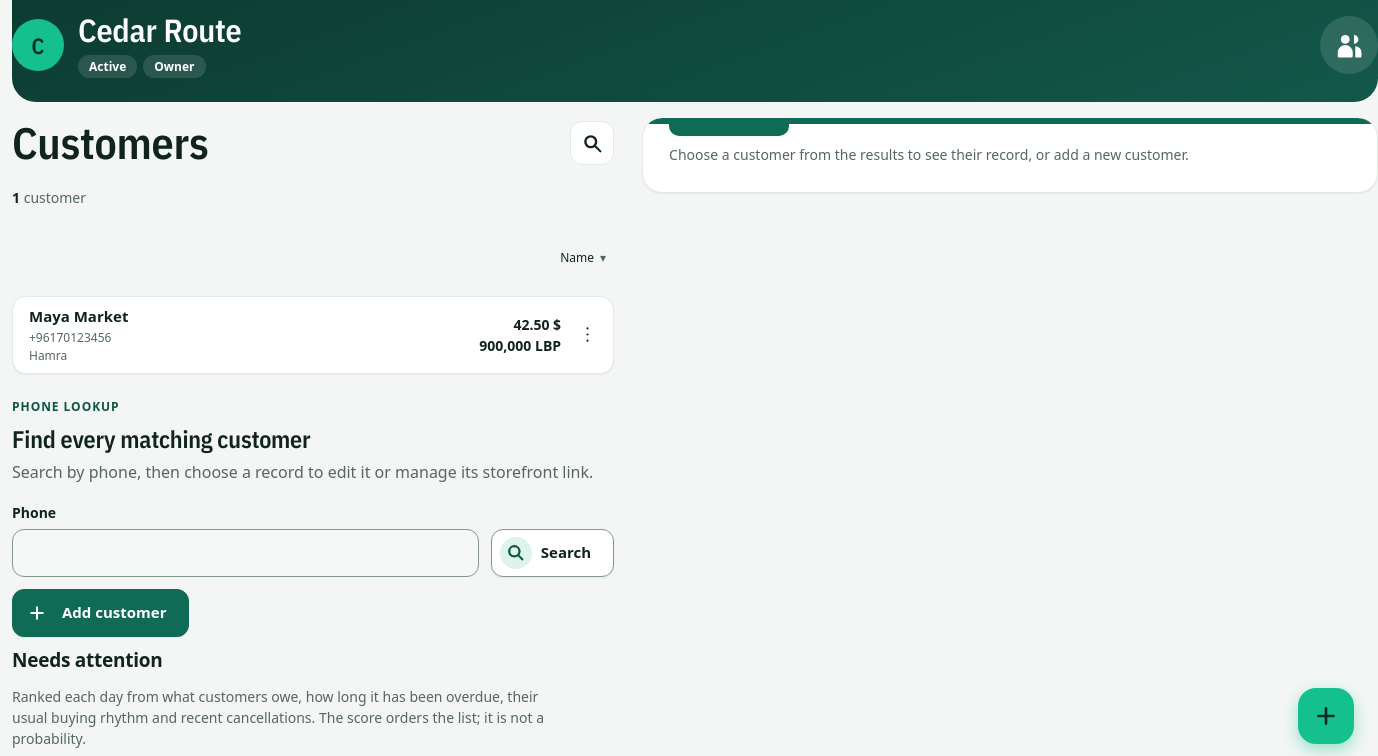
Test case: Fab opens required fields first; optional server validation reveals the disclosure without clearing values
Expected: the list named "All customers" is shown, x1=12 y1=296 x2=614 y2=374
Click the button named "New customer" at (1326, 716), box x1=1298 y1=688 x2=1354 y2=744
(page scrolled)
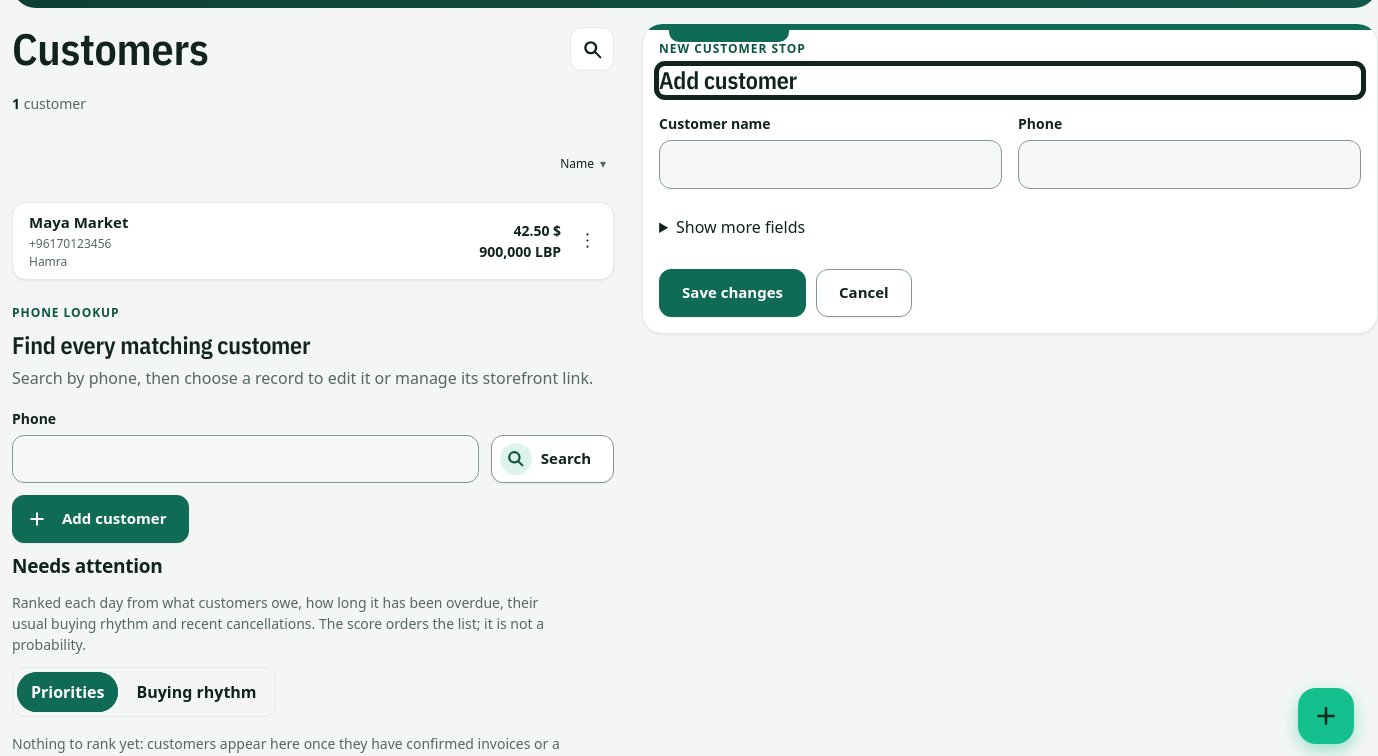
Type "New shop" into the field labelled "Customer name" at (831, 164), box x1=659 y1=140 x2=1002 y2=189
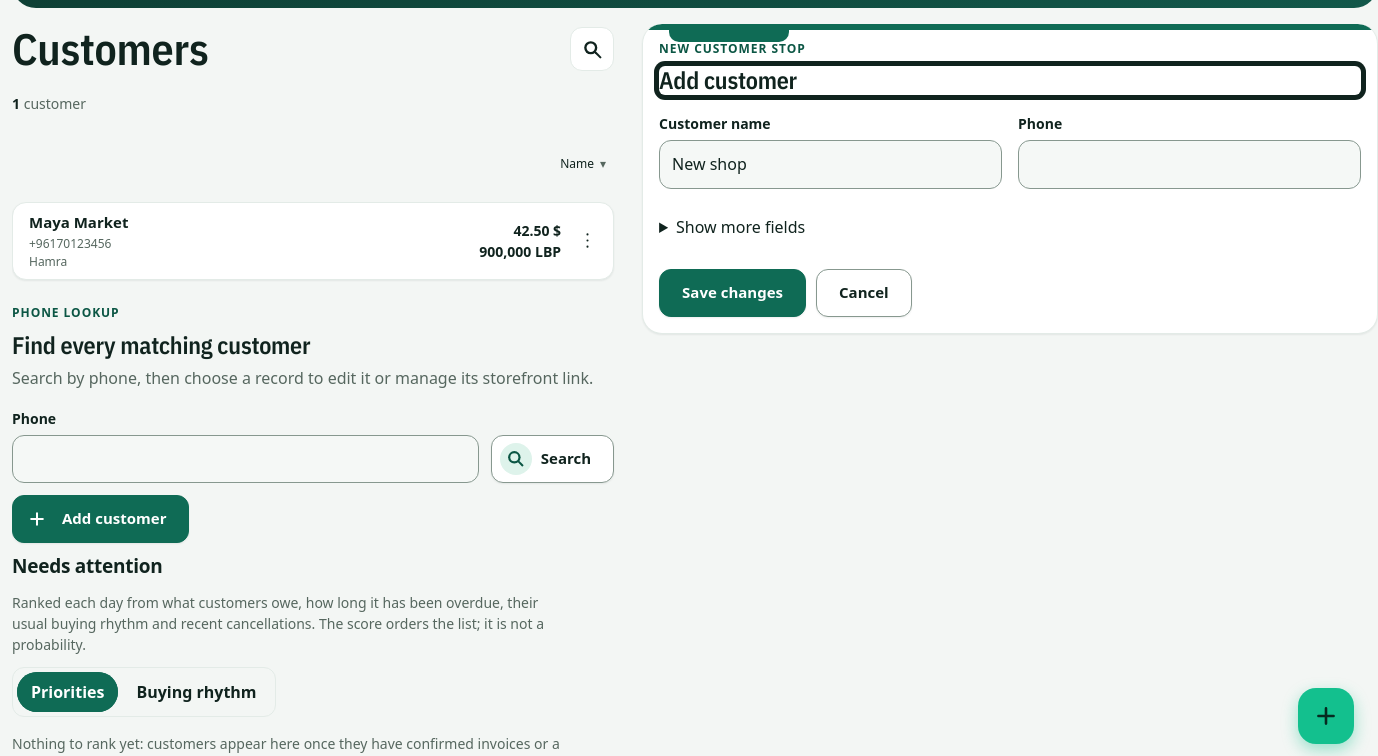
Type "+96171999888" into the field labelled "Phone" below "New customer stop" at (1190, 164), box x1=1018 y1=140 x2=1361 y2=189
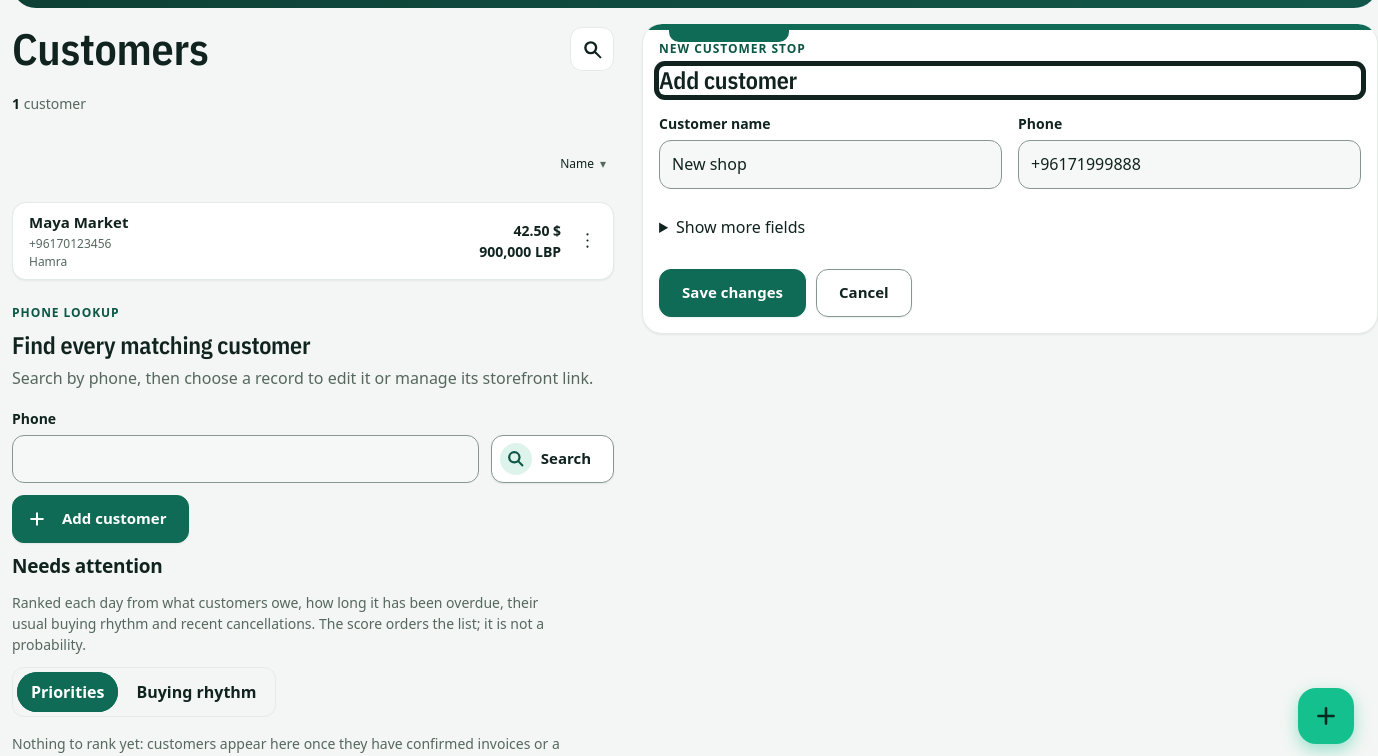
Click the button "Save changes" at (733, 293), box x1=659 y1=269 x2=806 y2=317
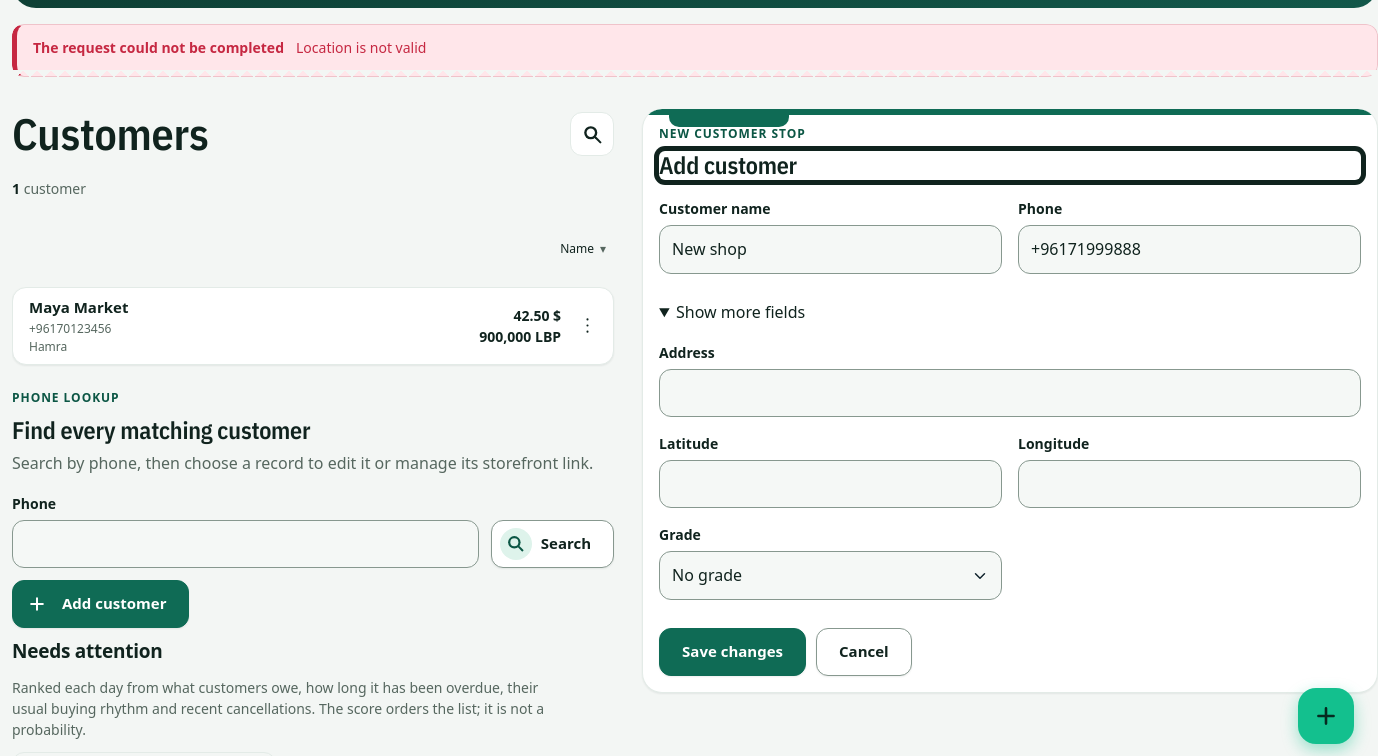
Result: the message shows "Location is not valid" at x1=296 y1=38 x2=426 y2=57
